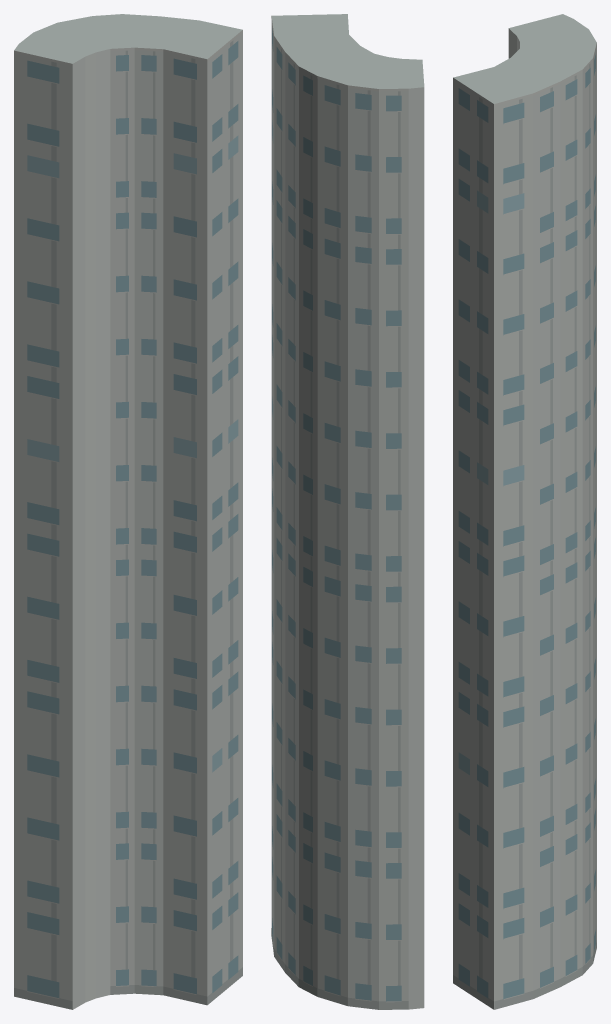
File: survey-upis-32793348.glb
The picture shows the model from 3 angles, left to right: view 1: azimuth 30°, elevation 25°; view 2: azimuth 150°, elevation 25°; view 3: azimuth 270°, elevation 25°; orthographic projection. The views are drawn at different scales.
Visible parts, largest first — view 1: survey-upis-32793348.tmp; view 2: survey-upis-32793348.tmp; view 3: survey-upis-32793348.tmp.
Boxes of the visible parts, bbox=[...] form: survey-upis-32793348.tmp: bbox=[14, 14, 242, 1009]; survey-upis-32793348.tmp: bbox=[271, 14, 424, 1009]; survey-upis-32793348.tmp: bbox=[453, 14, 596, 1009].
Size of the model in its own units: 19.54 by 91.5 by 13.17.
